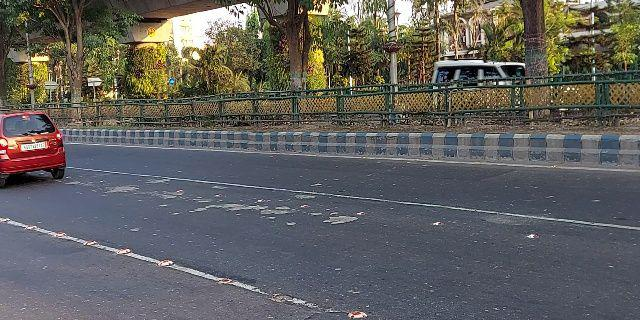Car: (1, 106, 70, 187)
